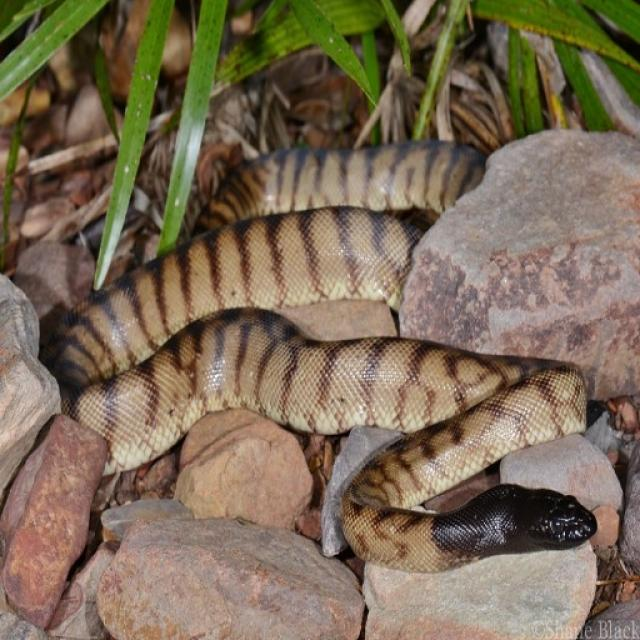snake: (41, 122, 614, 588)
